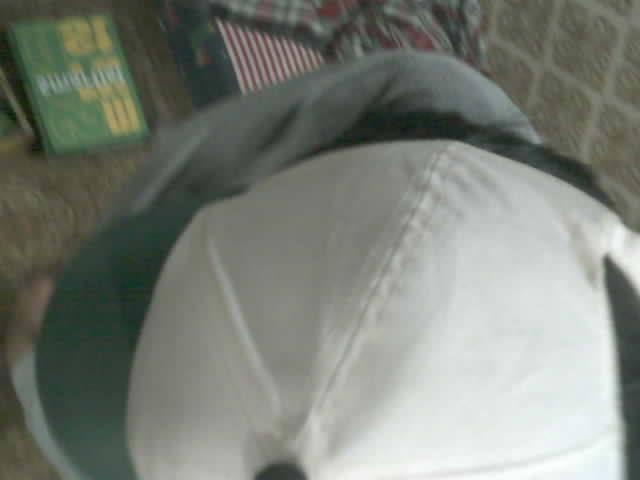cap: (35, 138, 639, 479)
